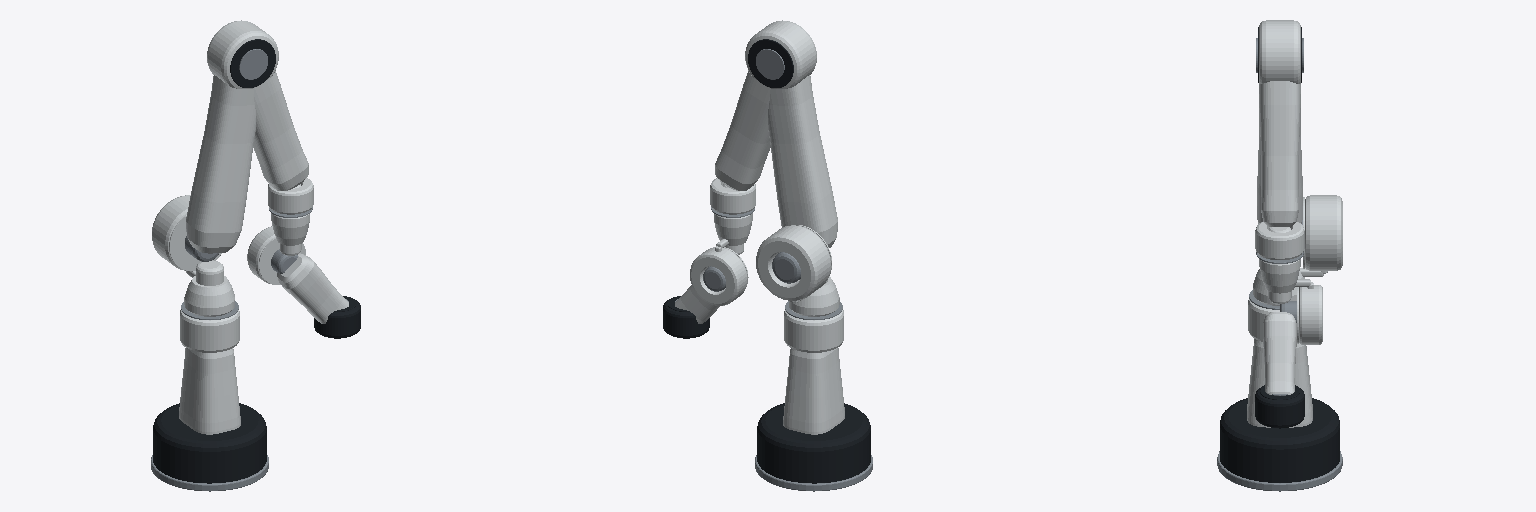
The robot description file, URDF, robot "ufactory_xarm6_reference":
<?xml version='1.0' encoding='utf-8'?>
<robot name="ufactory_xarm6_reference">
  <link name="world" />
  <link name="link_base">
    <inertial>
      <origin xyz="0 0 0.09103" rpy="0 -0 0" />
      <mass value="2.7" />
      <inertia ixx="0.00494875" iyy="0.00494174" izz="0.002219" ixy="-3.5e-06" ixz="1.25e-05" iyz="1.67e-06" />
    </inertial>
    <visual name="link_base_base_visual">
      <geometry>
        <mesh filename="meshes/link_base_base_visual.stl" />
      </geometry>
      <material name="link_base_base">
        <color rgba="0.16 0.18 0.2 1" />
      </material>
    </visual>
    <collision name="link_base_base_collision">
      <origin xyz="0 0 -0.0359259185626" rpy="0 -0 0" />
      <geometry>
        <cylinder radius="0.0798475446102221" length="0.07185183712524786" />
      </geometry>
    </collision>
    <visual name="link_base_mounting_rim_visual">
      <geometry>
        <mesh filename="meshes/link_base_mounting_rim_visual.stl" />
      </geometry>
      <material name="link_base_mounting_rim">
        <color rgba="0.55 0.58 0.61 1" />
      </material>
    </visual>
    <visual name="link_base_beam_visual">
      <geometry>
        <mesh filename="meshes/link_base_beam_visual.stl" />
      </geometry>
      <material name="link_base_beam">
        <color rgba="0.82 0.84 0.85 1" />
      </material>
    </visual>
    <collision name="link_base_beam_collision">
      <origin xyz="0 0 0.06" rpy="0 -0 -1.57079632679" />
      <geometry>
        <box size="0.0876241916162 0.0718518371252 0.048" />
      </geometry>
    </collision>
    <visual name="link_base_joint1_stator_visual">
      <geometry>
        <mesh filename="meshes/link_base_joint1_stator_visual.stl" />
      </geometry>
      <material name="link_base_joint1_stator">
        <color rgba="0.82 0.84 0.85 1" />
      </material>
    </visual>
    <collision name="link_base_joint1_stator_collision">
      <origin xyz="0 0 0.147" rpy="0 -0 -1.57079632679" />
      <geometry>
        <cylinder radius="0.0425" length="0.05" />
      </geometry>
    </collision>
  </link>
  <link name="link1">
    <inertial>
      <origin xyz="0.00022 0.02951 -0.0124" rpy="0 -0 0" />
      <mass value="2.3814" />
      <inertia ixx="0.0058562" iyy="0.0050316" izz="0.003536652" ixy="-1.79e-05" ixz="3.55e-06" iyz="-0.000888336" />
    </inertial>
    <visual name="link1_joint2_stator_visual">
      <geometry>
        <mesh filename="meshes/link1_joint2_stator_visual.stl" />
      </geometry>
      <material name="link1_joint2_stator">
        <color rgba="0.82 0.84 0.85 1" />
      </material>
    </visual>
    <collision name="link1_joint2_stator_collision">
      <origin xyz="0 0.0576567838397 -2.11785192648e-07" rpy="3.14159265359 -1.57079265358 1.57079632679" />
      <geometry>
        <cylinder radius="0.05" length="0.05" />
      </geometry>
    </collision>
    <visual name="link1_joint1_output_shaft_visual">
      <geometry>
        <mesh filename="meshes/link1_joint1_output_shaft_visual.stl" />
      </geometry>
      <material name="link1_joint1_output_shaft">
        <color rgba="0.82 0.84 0.85 1" />
      </material>
    </visual>
    <collision name="link1_joint1_output_shaft_collision">
      <origin xyz="-0 -0 -0.0852501518077" rpy="-0 -0 -1.57079632679" />
      <geometry>
        <cylinder radius="0.019975" length="0.11949969638467975" />
      </geometry>
    </collision>
    <visual name="link1_joint1_output_fairing_visual">
      <geometry>
        <mesh filename="meshes/link1_joint1_output_fairing_visual.stl" />
      </geometry>
      <material name="link1_joint1_output_fairing">
        <color rgba="0.82 0.84 0.85 1" />
      </material>
    </visual>
    <collision name="link1_joint1_output_fairing_collision">
      <origin xyz="-0 -0 -0.0702500599774" rpy="-0 -0 -1.57079632679" />
      <geometry>
        <cylinder radius="0.0357" length="0.04149988004525538" />
      </geometry>
    </collision>
    <visual name="link1_joint1_rotor_ring_visual">
      <geometry>
        <mesh filename="meshes/link1_joint1_rotor_ring_visual.stl" />
      </geometry>
      <material name="link1_joint1_rotor_ring">
        <color rgba="0.55 0.58 0.61 1" />
      </material>
    </visual>
    <collision name="link1_joint1_rotor_ring_collision">
      <origin xyz="0 0 -0.092" rpy="-0 -0 -1.57079632679" />
      <geometry>
        <cylinder radius="0.0408" length="0.002" />
      </geometry>
    </collision>
    <visual name="link1_joint2_support_visual">
      <geometry>
        <mesh filename="meshes/link1_joint2_support_visual.stl" />
      </geometry>
      <material name="link1_joint2_support">
        <color rgba="0.82 0.84 0.85 1" />
      </material>
    </visual>
    <collision name="link1_joint2_support_collision">
      <origin xyz="0 0.0288281815254 -0.0572782804853" rpy="1.5708 -0 3.14159265359" />
      <geometry>
        <box size="0.011 0.011 0.0576567838401" />
      </geometry>
    </collision>
    <visual name="link1_joint2_stator_lug_visual">
      <geometry>
        <mesh filename="meshes/link1_joint2_stator_lug_visual.stl" />
      </geometry>
      <material name="link1_joint2_stator_lug">
        <color rgba="0.82 0.84 0.85 1" />
      </material>
    </visual>
    <collision name="link1_joint2_stator_lug_collision">
      <origin xyz="0 0.0576566097699 -0.0473892990814" rpy="-3.14158898038 -0 3.14159265359" />
      <geometry>
        <box size="0.011 0.011 0.0197781745931" />
      </geometry>
    </collision>
  </link>
  <link name="link2">
    <inertial>
      <origin xyz="0.03881 -0.22783 0.03496" rpy="0 -0 0" />
      <mass value="2.2675" />
      <inertia ixx="0.028315776" iyy="0.0058" izz="0.0273447" ixy="0.005" ixz="0.00066546" iyz="-0.0045741" />
    </inertial>
    <visual name="link2_beam_visual">
      <geometry>
        <mesh filename="meshes/link2_beam_visual.stl" />
      </geometry>
      <material name="link2_beam">
        <color rgba="0.82 0.84 0.85 1" />
      </material>
    </visual>
    <collision name="link2_beam_collision">
      <origin xyz="0.02675 -0.14225 0" rpy="1.57079632679 0 0.185878453925" />
      <geometry>
        <box size="0.0747726435125 0.0613135676802 0.179486614544" />
      </geometry>
    </collision>
    <visual name="link2_joint2_output_shaft_visual">
      <geometry>
        <mesh filename="meshes/link2_joint2_output_shaft_visual.stl" />
      </geometry>
      <material name="link2_joint2_output_shaft">
        <color rgba="0.55 0.58 0.61 1" />
      </material>
    </visual>
    <collision name="link2_joint2_output_shaft_collision">
      <origin xyz="0 0 0.0413283919201" rpy="-0 -0 -1.57079632679" />
      <geometry>
        <cylinder radius="0.0235" length="0.08265678384010575" />
      </geometry>
    </collision>
    <visual name="link2_joint2_output_plate_visual">
      <geometry>
        <mesh filename="meshes/link2_joint2_output_plate_visual.stl" />
      </geometry>
      <material name="link2_joint2_output_plate">
        <color rgba="0.82 0.84 0.85 1" />
      </material>
    </visual>
    <collision name="link2_joint2_output_plate_collision">
      <origin xyz="0 0 0.0316567838401" rpy="-0 -0 -1.57079632679" />
      <geometry>
        <cylinder radius="0.0475" length="0.002" />
      </geometry>
    </collision>
  </link>
  <link name="link3">
    <inertial>
      <origin xyz="0.07041 0.11631 0.0107" rpy="0 -0 0" />
      <mass value="1.875" />
      <inertia ixx="0.0063483" iyy="0.00379758" izz="0.00595768" ixy="-0.0015397" ixz="0.00096858" iyz="0.00186567" />
    </inertial>
    <visual name="link3_housing_visual">
      <geometry>
        <mesh filename="meshes/link3_housing_visual.stl" />
      </geometry>
      <material name="link3_housing">
        <color rgba="0.82 0.84 0.85 1" />
      </material>
    </visual>
    <collision name="link3_housing_collision">
      <origin xyz="0 0 0" rpy="-0 -0 -1.57079632679" />
      <geometry>
        <cylinder radius="0.0461341368859061" length="0.056044432957693326" />
      </geometry>
    </collision>
    <visual name="link3_cap_visual">
      <geometry>
        <mesh filename="meshes/link3_cap_visual.stl" />
      </geometry>
      <material name="link3_cap">
        <color rgba="0.16 0.18 0.2 1" />
      </material>
    </visual>
    <visual name="link3_cap_hub_visual">
      <geometry>
        <mesh filename="meshes/link3_cap_hub_visual.stl" />
      </geometry>
      <material name="link3_cap_hub">
        <color rgba="0.55 0.58 0.61 1" />
      </material>
    </visual>
    <visual name="link3_rear_cap_visual">
      <geometry>
        <mesh filename="meshes/link3_rear_cap_visual.stl" />
      </geometry>
      <material name="link3_rear_cap">
        <color rgba="0.16 0.18 0.2 1" />
      </material>
    </visual>
    <visual name="link3_rear_cap_hub_visual">
      <geometry>
        <mesh filename="meshes/link3_rear_cap_hub_visual.stl" />
      </geometry>
      <material name="link3_rear_cap_hub">
        <color rgba="0.55 0.58 0.61 1" />
      </material>
    </visual>
    <visual name="link3_beam_visual">
      <geometry>
        <mesh filename="meshes/link3_beam_visual.stl" />
      </geometry>
      <material name="link3_beam">
        <color rgba="0.82 0.84 0.85 1" />
      </material>
    </visual>
    <collision name="link3_beam_collision">
      <origin xyz="0.03875 0.1065 2.37840030446e-07" rpy="1.57079422815 1.05879118407e-22 2.79263318412" />
      <geometry>
        <box size="0.0683468694606 0.0560444329577 0.161149445797" />
      </geometry>
    </collision>
    <visual name="link3_joint4_stator_visual">
      <geometry>
        <mesh filename="meshes/link3_joint4_stator_visual.stl" />
      </geometry>
      <material name="link3_joint4_stator">
        <color rgba="0.82 0.84 0.85 1" />
      </material>
    </visual>
    <collision name="link3_joint4_stator_collision">
      <origin xyz="0.0775 0.232500000001 4.04052561376e-07" rpy="3.14159265359 -1.57079265358 1.57079632679" />
      <geometry>
        <cylinder radius="0.0325" length="0.035" />
      </geometry>
    </collision>
  </link>
  <link name="link4">
    <inertial>
      <origin xyz="-0.00018 0.01798 -0.02291" rpy="0 -0 0" />
      <mass value="1.3192" />
      <inertia ixx="0.004896" iyy="0.00445694" izz="0.00134332" ixy="-6.925e-06" ixz="-1.418e-05" iyz="-0.00023186" />
    </inertial>
    <visual name="link4_joint5_stator_visual">
      <geometry>
        <mesh filename="meshes/link4_joint5_stator_visual.stl" />
      </geometry>
      <material name="link4_joint5_stator">
        <color rgba="0.82 0.84 0.85 1" />
      </material>
    </visual>
    <collision name="link4_joint5_stator_collision">
      <origin xyz="0 -0.0407530817561 -1.49694427887e-07" rpy="3.14159265359 1.57079265358 1.57079632679" />
      <geometry>
        <cylinder radius="0.04" length="0.032" />
      </geometry>
    </collision>
    <visual name="link4_joint4_output_shaft_visual">
      <geometry>
        <mesh filename="meshes/link4_joint4_output_shaft_visual.stl" />
      </geometry>
      <material name="link4_joint4_output_shaft">
        <color rgba="0.82 0.84 0.85 1" />
      </material>
    </visual>
    <collision name="link4_joint4_output_shaft_collision">
      <origin xyz="-0 -0 -0.0741501042329" rpy="-0 -0 -1.57079632679" />
      <geometry>
        <cylinder radius="0.015275" length="0.10669979153429046" />
      </geometry>
    </collision>
    <visual name="link4_joint4_output_fairing_visual">
      <geometry>
        <mesh filename="meshes/link4_joint4_output_fairing_visual.stl" />
      </geometry>
      <material name="link4_joint4_output_fairing">
        <color rgba="0.82 0.84 0.85 1" />
      </material>
    </visual>
    <collision name="link4_joint4_output_fairing_collision">
      <origin xyz="-0 -0 -0.0642500454614" rpy="-0 -0 -1.57079632679" />
      <geometry>
        <cylinder radius="0.0273" length="0.048499909077110125" />
      </geometry>
    </collision>
    <visual name="link4_joint4_rotor_ring_visual">
      <geometry>
        <mesh filename="meshes/link4_joint4_rotor_ring_visual.stl" />
      </geometry>
      <material name="link4_joint4_rotor_ring">
        <color rgba="0.55 0.58 0.61 1" />
      </material>
    </visual>
    <collision name="link4_joint4_rotor_ring_collision">
      <origin xyz="0 0 -0.0895" rpy="-0 -0 -1.57079632679" />
      <geometry>
        <cylinder radius="0.0312" length="0.002" />
      </geometry>
    </collision>
    <visual name="link4_joint5_support_visual">
      <geometry>
        <mesh filename="meshes/link4_joint5_support_visual.stl" />
      </geometry>
      <material name="link4_joint5_support">
        <color rgba="0.82 0.84 0.85 1" />
      </material>
    </visual>
    <collision name="link4_joint5_support_collision">
      <origin xyz="0 -0.0203763710932 -0.0462226145213" rpy="1.5708 -0 0" />
      <geometry>
        <box size="0.0088 0.0088 0.0407530817563" />
      </geometry>
    </collision>
    <visual name="link4_joint5_stator_lug_visual">
      <geometry>
        <mesh filename="meshes/link4_joint5_stator_lug_visual.stl" />
      </geometry>
      <material name="link4_joint5_stator_lug">
        <color rgba="0.82 0.84 0.85 1" />
      </material>
    </visual>
    <collision name="link4_joint5_stator_lug_collision">
      <origin xyz="0 -0.0407529417655 -0.0381114195314" rpy="-3.14158898038 -0 0" />
      <geometry>
        <box size="0.0088 0.0088 0.0162225396744" />
      </geometry>
    </collision>
  </link>
  <link name="link5">
    <inertial>
      <origin xyz="0.0651 0.03096 0.00315" rpy="0 -0 0" />
      <mass value="1.33854" />
      <inertia ixx="0.00146378" iyy="0.00184192" izz="0.002333524" ixy="-0.000450624" ixz="0.000284306" iyz="0.000130866" />
    </inertial>
    <visual name="link5_beam_visual">
      <geometry>
        <mesh filename="meshes/link5_beam_visual.stl" />
      </geometry>
      <material name="link5_beam">
        <color rgba="0.82 0.84 0.85 1" />
      </material>
    </visual>
    <collision name="link5_beam_collision">
      <origin xyz="0.038 0.0485 0" rpy="1.57079632679 -0 2.4769907809" />
      <geometry>
        <box size="0.0554953213569 0.0455061635127 0.0492909728044" />
      </geometry>
    </collision>
    <visual name="link5_joint5_output_shaft_visual">
      <geometry>
        <mesh filename="meshes/link5_joint5_output_shaft_visual.stl" />
      </geometry>
      <material name="link5_joint5_output_shaft">
        <color rgba="0.55 0.58 0.61 1" />
      </material>
    </visual>
    <collision name="link5_joint5_output_shaft_collision">
      <origin xyz="0 0 0.0283765408782" rpy="-0 -0 -1.57079632679" />
      <geometry>
        <cylinder radius="0.0188" length="0.05675308175632848" />
      </geometry>
    </collision>
    <visual name="link5_joint5_output_plate_visual">
      <geometry>
        <mesh filename="meshes/link5_joint5_output_plate_visual.stl" />
      </geometry>
      <material name="link5_joint5_output_plate">
        <color rgba="0.82 0.84 0.85 1" />
      </material>
    </visual>
    <collision name="link5_joint5_output_plate_collision">
      <origin xyz="0 0 0.0237530817563" rpy="-0 -0 -1.57079632679" />
      <geometry>
        <cylinder radius="0.038" length="0.002" />
      </geometry>
    </collision>
  </link>
  <link name="link6">
    <inertial>
      <origin xyz="0 -0.00677 -0.01098" rpy="0 -0 0" />
      <mass value="0.17" />
      <inertia ixx="9.3e-05" iyy="5.87e-05" izz="0.000132" ixy="0.0" ixz="0.0" iyz="-3.6e-06" />
    </inertial>
    <visual name="link6_housing_visual">
      <geometry>
        <mesh filename="meshes/link6_housing_visual.stl" />
      </geometry>
      <material name="link6_housing">
        <color rgba="0.16 0.18 0.2 1" />
      </material>
    </visual>
    <collision name="link6_housing_collision">
      <origin xyz="0 0 0" rpy="-0 -0 -1.57079632679" />
      <geometry>
        <cylinder radius="0.03312194443090694" length="0.040237028790138796" />
      </geometry>
    </collision>
    <visual name="link6_cap_visual">
      <geometry>
        <mesh filename="meshes/link6_cap_visual.stl" />
      </geometry>
      <material name="link6_cap">
        <color rgba="0.16 0.18 0.2 1" />
      </material>
    </visual>
    <visual name="link6_cap_hub_visual">
      <geometry>
        <mesh filename="meshes/link6_cap_hub_visual.stl" />
      </geometry>
      <material name="link6_cap_hub">
        <color rgba="0.55 0.58 0.61 1" />
      </material>
    </visual>
    <visual name="link6_rear_cap_visual">
      <geometry>
        <mesh filename="meshes/link6_rear_cap_visual.stl" />
      </geometry>
      <material name="link6_rear_cap">
        <color rgba="0.16 0.18 0.2 1" />
      </material>
    </visual>
    <visual name="link6_rear_cap_hub_visual">
      <geometry>
        <mesh filename="meshes/link6_rear_cap_hub_visual.stl" />
      </geometry>
      <material name="link6_rear_cap_hub">
        <color rgba="0.55 0.58 0.61 1" />
      </material>
    </visual>
    <visual name="link6_flange_visual">
      <geometry>
        <mesh filename="meshes/link6_flange_visual.stl" />
      </geometry>
      <material name="link6_flange">
        <color rgba="0.55 0.58 0.61 1" />
      </material>
    </visual>
    <collision name="link6_flange_collision">
      <origin xyz="0 0 0" rpy="0 -0 0" />
      <geometry>
        <cylinder radius="0.025761512335149842" length="0.008832518514908518" />
      </geometry>
    </collision>
    <visual name="link6_flange_fastener_0_visual">
      <geometry>
        <mesh filename="meshes/link6_flange_fastener_0_visual.stl" />
      </geometry>
      <material name="link6_flange_fastener_0">
        <color rgba="0.16 0.18 0.2 1" />
      </material>
    </visual>
    <visual name="link6_flange_fastener_1_visual">
      <geometry>
        <mesh filename="meshes/link6_flange_fastener_1_visual.stl" />
      </geometry>
      <material name="link6_flange_fastener_1">
        <color rgba="0.16 0.18 0.2 1" />
      </material>
    </visual>
    <visual name="link6_flange_fastener_2_visual">
      <geometry>
        <mesh filename="meshes/link6_flange_fastener_2_visual.stl" />
      </geometry>
      <material name="link6_flange_fastener_2">
        <color rgba="0.16 0.18 0.2 1" />
      </material>
    </visual>
    <visual name="link6_flange_fastener_3_visual">
      <geometry>
        <mesh filename="meshes/link6_flange_fastener_3_visual.stl" />
      </geometry>
      <material name="link6_flange_fastener_3">
        <color rgba="0.16 0.18 0.2 1" />
      </material>
    </visual>
  </link>
  <link name="tool_frame" />
  <joint name="world_fixed" type="fixed">
    <parent link="world" />
    <child link="link_base" />
    <origin xyz="0 0 0" rpy="0 -0 0" />
  </joint>
  <joint name="joint1" type="revolute">
    <parent link="link_base" />
    <child link="link1" />
    <origin xyz="0 0 0.267" rpy="0 -0 0" />
    <axis xyz="0 0 1" />
    <limit lower="-6.283185307179586" upper="6.283185307179586" effort="163.2" velocity="3.14" />
    <dynamics damping="0" friction="0" />
  </joint>
  <joint name="joint2" type="revolute">
    <parent link="link1" />
    <child link="link2" />
    <origin xyz="0 0 0" rpy="-1.5708 -0 0" />
    <axis xyz="0 0 1" />
    <limit lower="-2.059" upper="2.0944" effort="163.2" velocity="3.14" />
    <dynamics damping="0" friction="0" />
  </joint>
  <joint name="joint3" type="revolute">
    <parent link="link2" />
    <child link="link3" />
    <origin xyz="0.0535 -0.2845 0" rpy="0 -0 0" />
    <axis xyz="0 0 1" />
    <limit lower="-3.927" upper="0.19198" effort="81.6" velocity="3.14" />
    <dynamics damping="0" friction="0" />
  </joint>
  <joint name="joint4" type="revolute">
    <parent link="link3" />
    <child link="link4" />
    <origin xyz="0.0775 0.3425 0" rpy="-1.5708 -0 0" />
    <axis xyz="0 0 1" />
    <limit lower="-6.283185307179586" upper="6.283185307179586" effort="81.6" velocity="3.14" />
    <dynamics damping="0" friction="0" />
  </joint>
  <joint name="joint5" type="revolute">
    <parent link="link4" />
    <child link="link5" />
    <origin xyz="0 0 0" rpy="1.5708 -0 0" />
    <axis xyz="0 0 1" />
    <limit lower="-1.69297" upper="3.141592653589793" effort="30.6" velocity="3.14" />
    <dynamics damping="0" friction="0" />
  </joint>
  <joint name="joint6" type="revolute">
    <parent link="link5" />
    <child link="link6" />
    <origin xyz="0.076 0.097 0" rpy="-1.5708 -0 0" />
    <axis xyz="0 0 1" />
    <limit lower="-6.283185307179586" upper="6.283185307179586" effort="30.6" velocity="3.14" />
    <dynamics damping="0" friction="0" />
  </joint>
  <joint name="tool_fixed" type="fixed">
    <parent link="link6" />
    <child link="tool_frame" />
    <origin xyz="0 0 0" rpy="0 -0 0" />
  </joint>
  <mujoco>
    <compiler strippath="false" discardvisual="false" fusestatic="false" />
  </mujoco>
</robot>

--- Render facts (derived) ---
The picture shows the robot from 3 angles, left to right: view 1: azimuth 30°, elevation 25°; view 2: azimuth 150°, elevation 25°; view 3: azimuth 270°, elevation 25°; orthographic projection.
Model ufactory_xarm6_reference with 9 links and 8 joints (6 revolute, 2 fixed), rooted at world, posed every joint at zero.
Visible links, largest first — view 1: link_base, link2, link3, link1, link5, link4, link6; view 2: link_base, link3, link2, link1, link4, link5, link6; view 3: link_base, link3, link1, link4, link5, link6, link2.
Link boxes in pixels (left/top/right/bottom): link_base: left=151, top=310, right=268, bottom=491; link2: left=169, top=75, right=255, bottom=271; link3: left=207, top=20, right=313, bottom=214; link1: left=152, top=195, right=238, bottom=319; link5: left=259, top=238, right=348, bottom=323; link4: left=247, top=184, right=312, bottom=284; link6: left=314, top=296, right=360, bottom=338; link_base: left=755, top=310, right=872, bottom=491; link3: left=710, top=20, right=816, bottom=214; link2: left=768, top=75, right=837, bottom=283; link1: left=756, top=225, right=842, bottom=319; link4: left=690, top=184, right=754, bottom=305; link5: left=675, top=247, right=748, bottom=323; link6: left=663, top=296, right=709, bottom=338; link_base: left=1217, top=299, right=1342, bottom=491; link3: left=1255, top=20, right=1304, bottom=259; link1: left=1249, top=195, right=1342, bottom=309; link4: left=1256, top=227, right=1322, bottom=344; link5: left=1263, top=287, right=1298, bottom=394; link6: left=1255, top=385, right=1304, bottom=428; link2: left=1257, top=110, right=1304, bottom=268.
Size in the robot's own frame: 0.3232 by 0.1661 by 0.6695 metres.
Meshes: 39 distinct files referenced, 39 mesh visuals loaded (39 binary STL).
